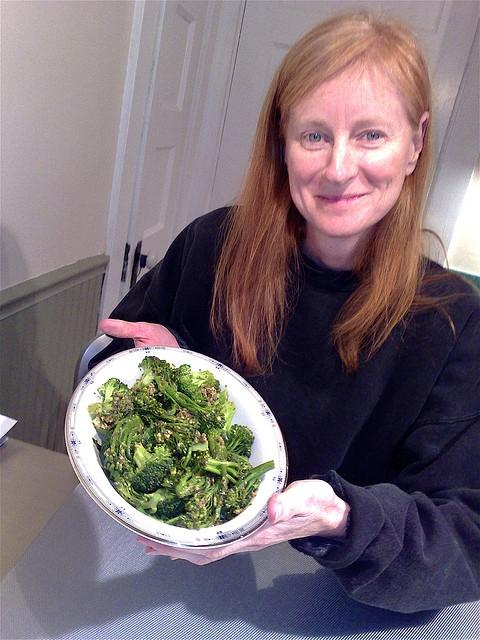broccoli: (154, 375, 226, 439), (223, 460, 276, 509), (131, 442, 172, 494), (110, 413, 144, 472), (87, 388, 135, 429), (157, 414, 201, 456), (184, 479, 221, 524), (174, 364, 216, 402), (132, 356, 172, 390), (150, 487, 188, 520), (174, 465, 206, 499), (204, 458, 243, 484), (113, 476, 143, 509), (228, 424, 255, 458), (132, 392, 166, 418), (208, 427, 228, 461), (98, 378, 120, 402)
